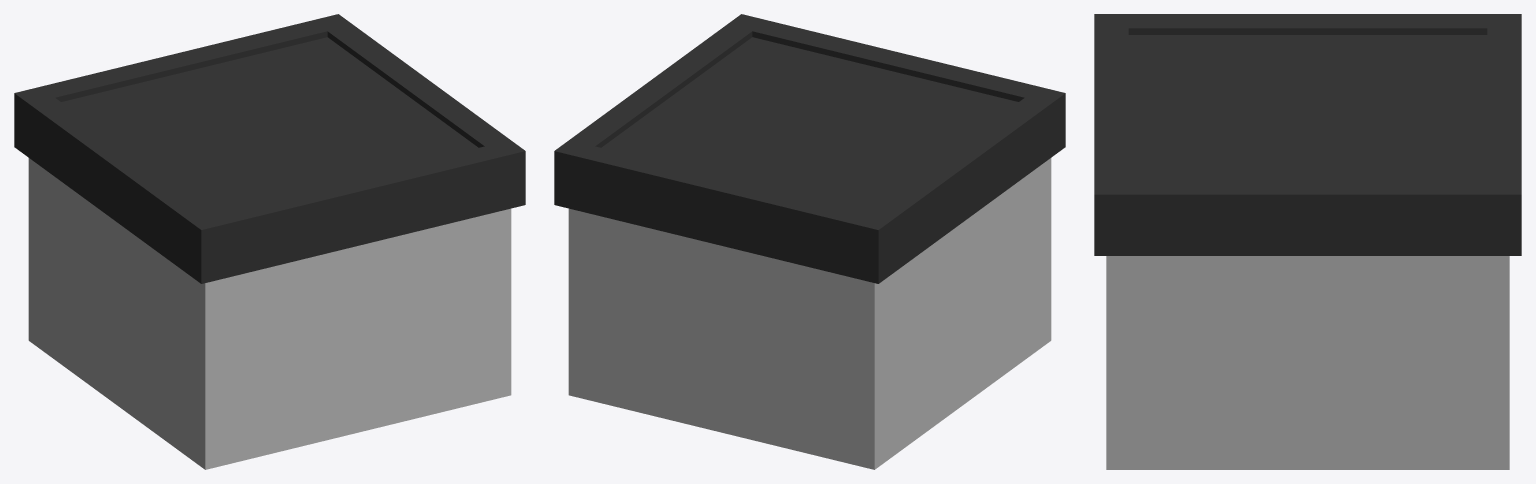
File: BigBox.fbx
3 renders of one model, left to right at view 1: azimuth 30°, elevation 25°; view 2: azimuth 150°, elevation 25°; view 3: azimuth 270°, elevation 25°, orthographic. The views are drawn at different scales.
Visible parts, largest first — view 1: Cube.019; view 2: Cube.019; view 3: Cube.019.
Boxes of the visible parts, bbox=[...] form: Cube.019: bbox=[14, 14, 525, 469]; Cube.019: bbox=[554, 14, 1065, 469]; Cube.019: bbox=[1094, 14, 1521, 469].
Bounding box in the file's own units: 615 × 446 × 615.
